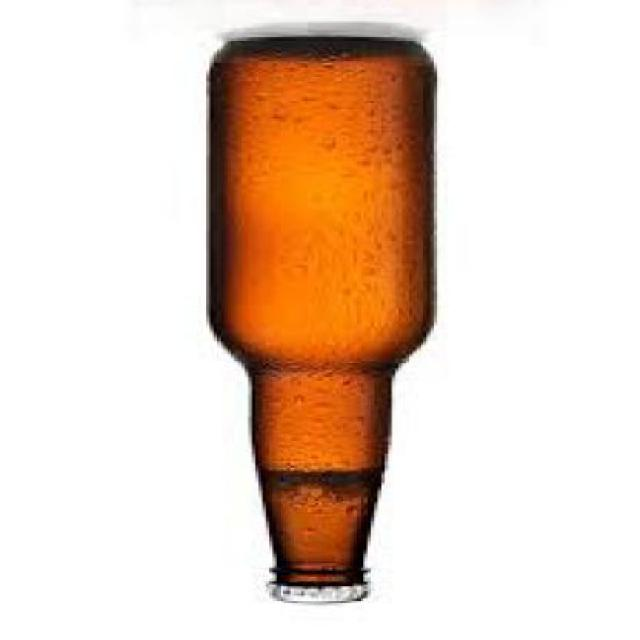GLASS: (206, 37, 431, 586)
METAL: (262, 589, 364, 605)
